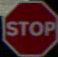Stop: (2, 4, 56, 49)
